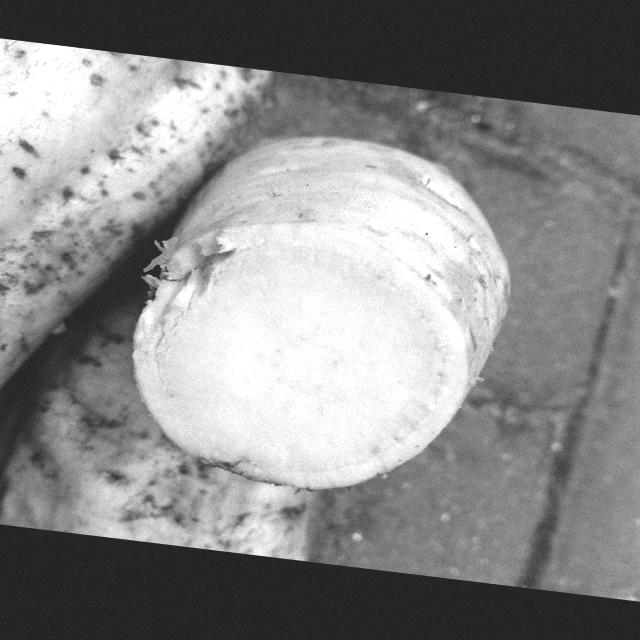Healthy Sweet Potato: (133, 225, 468, 489)
